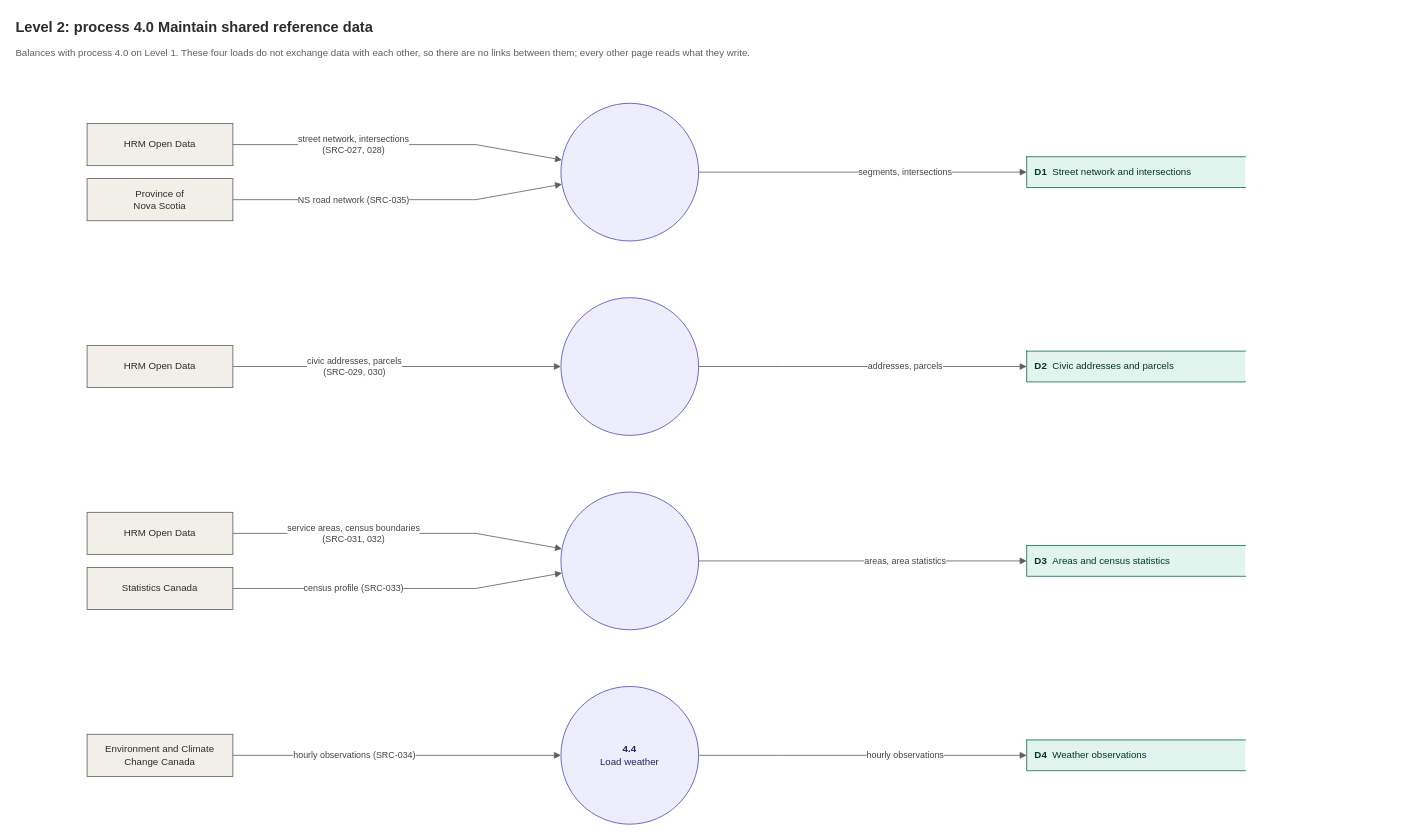
This 1405x838 diagram has some shape labels left out. Here are the shapes that lost their labels. From the top down, the centre of each, then its label:
At [629,171]: "4.1 Load street network".
At [629,366]: "4.2 Load addresses and parcels".
At [629,560]: "4.3 Load areas and census".
